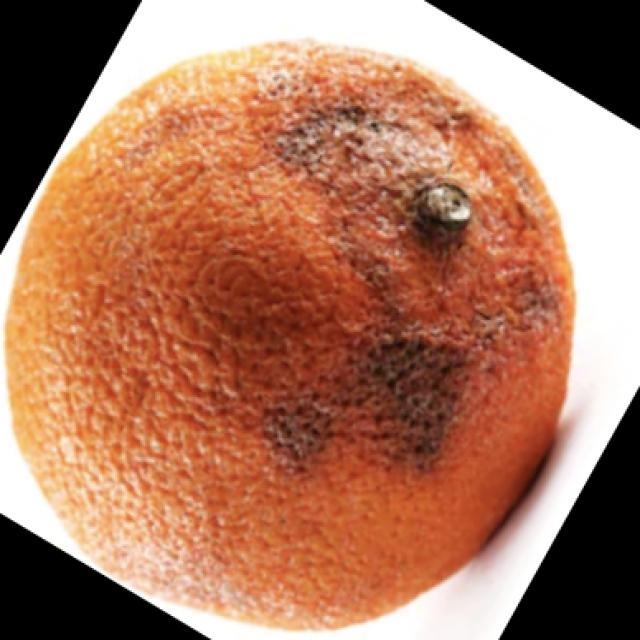sedikit-busuk: (7, 42, 573, 626), (268, 104, 503, 459)
